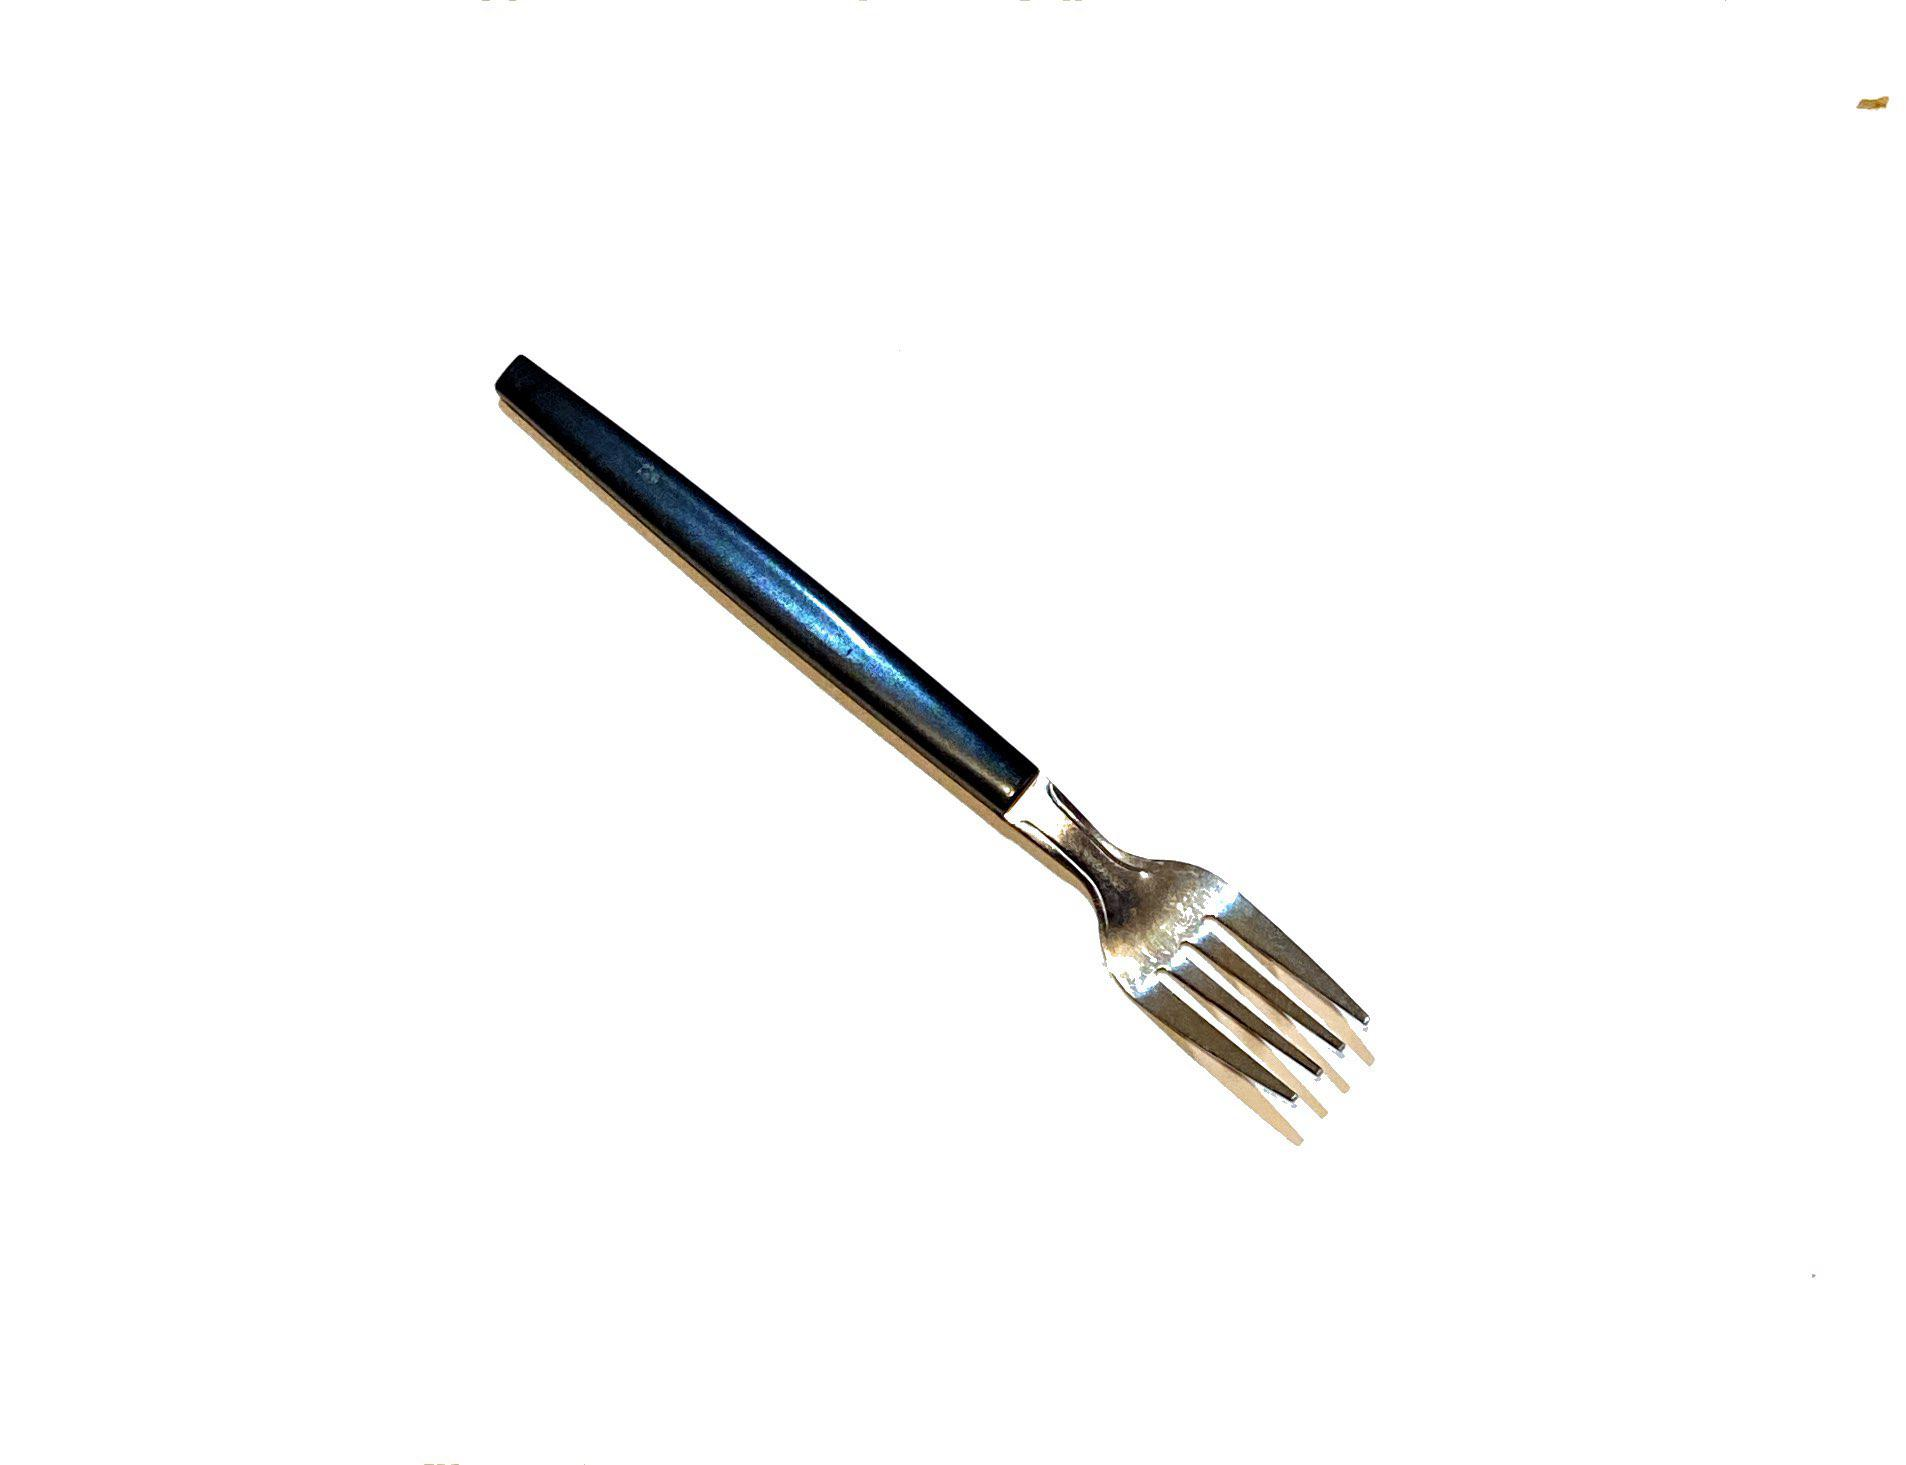Fork: (452, 255, 1449, 1243)
